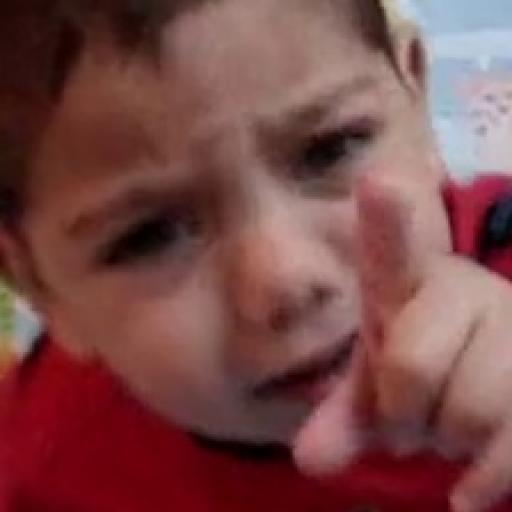Autism: (50, 48, 512, 510)
